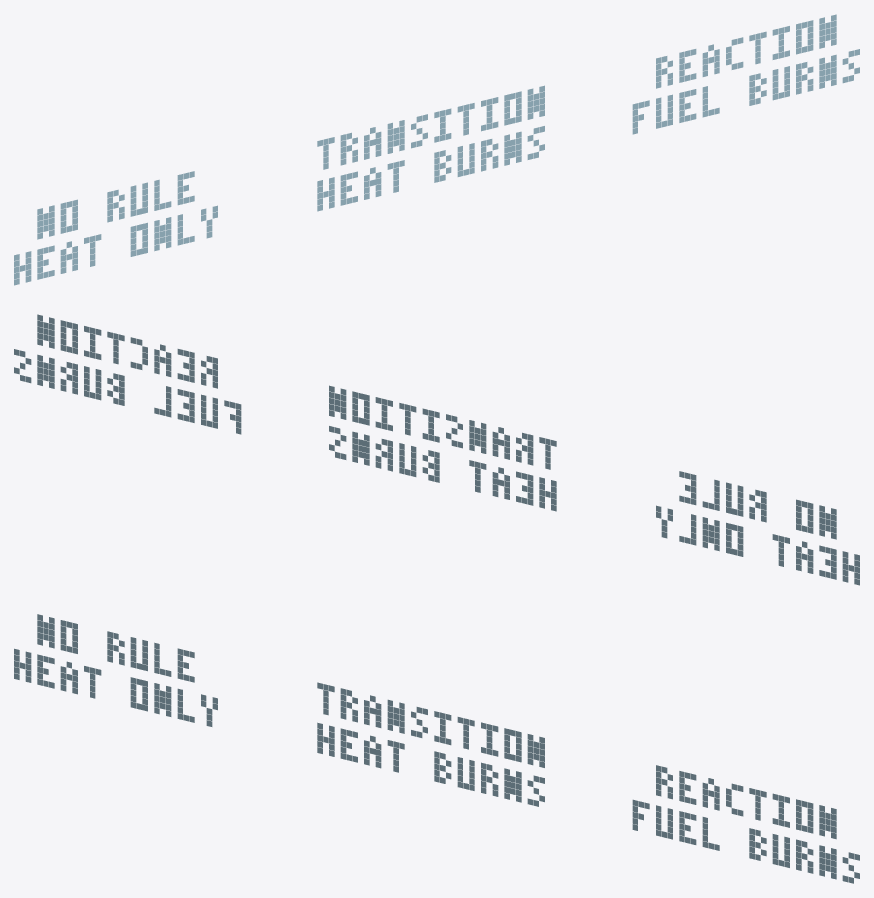
File: ReactionTransitionLabels.obj
The picture shows the model from 3 angles, top to bottom: view 1: azimuth 30°, elevation 25°; view 2: azimuth 150°, elevation 25°; view 3: azimuth 330°, elevation 25°; orthographic projection.
Parts seen in each view (by area): view 1: comparison_labels; view 2: comparison_labels; view 3: comparison_labels.
Boxes of the visible parts, <box> form: comparison_labels: <box>14,14,859,285</box>; comparison_labels: <box>14,314,859,585</box>; comparison_labels: <box>14,614,859,883</box>.
Bounding box in the file's own units: 5.5 × 0.438 × 0.
